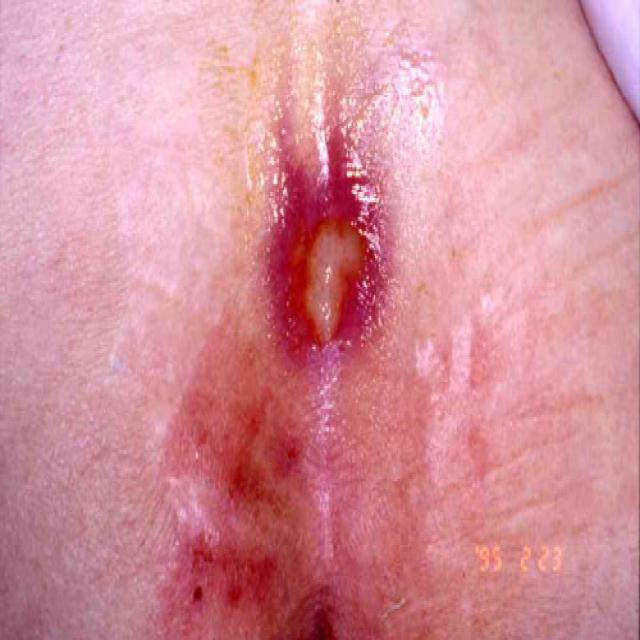stage-3: (263, 124, 384, 359)
